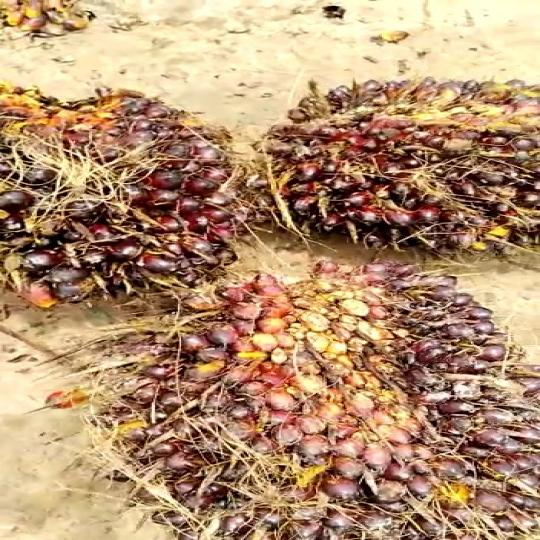kurang masak: (109, 268, 540, 539), (0, 69, 262, 323), (243, 70, 540, 276)
